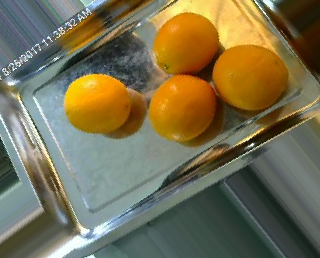Orange: (212, 44, 289, 112), (146, 74, 215, 142), (153, 12, 219, 78), (63, 73, 131, 134)
